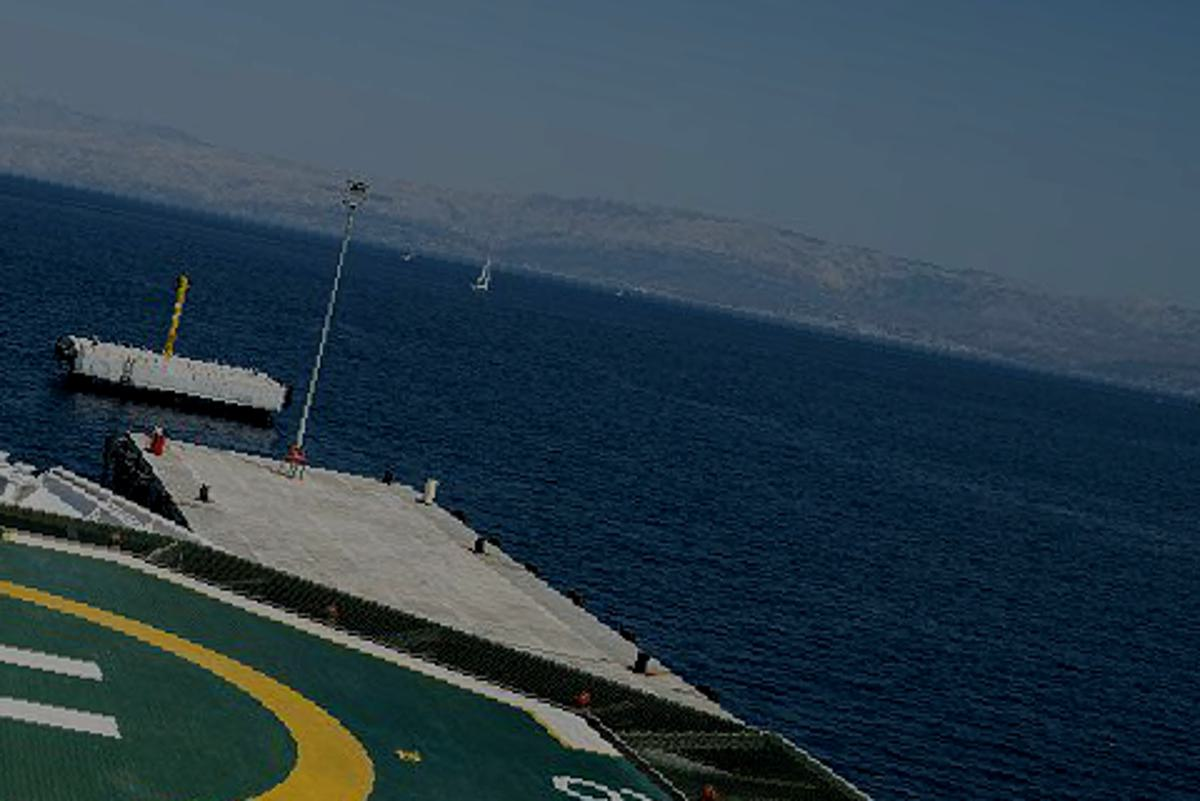Apron: (1, 566, 358, 779)
